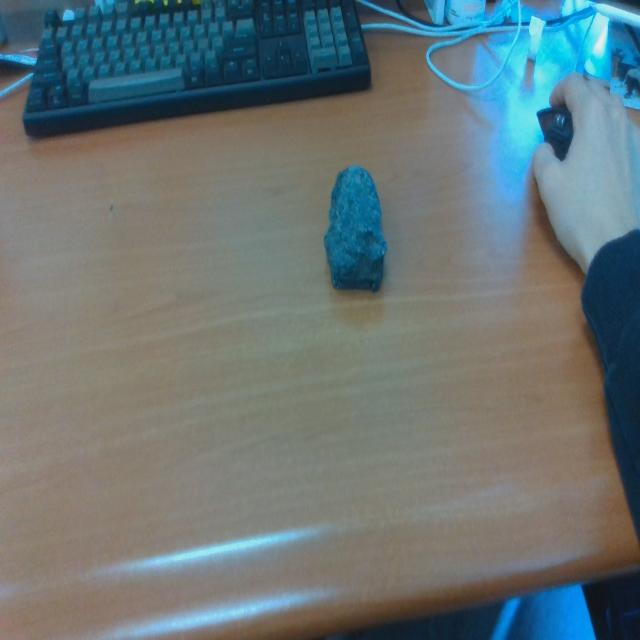stone: (323, 164, 387, 295)
